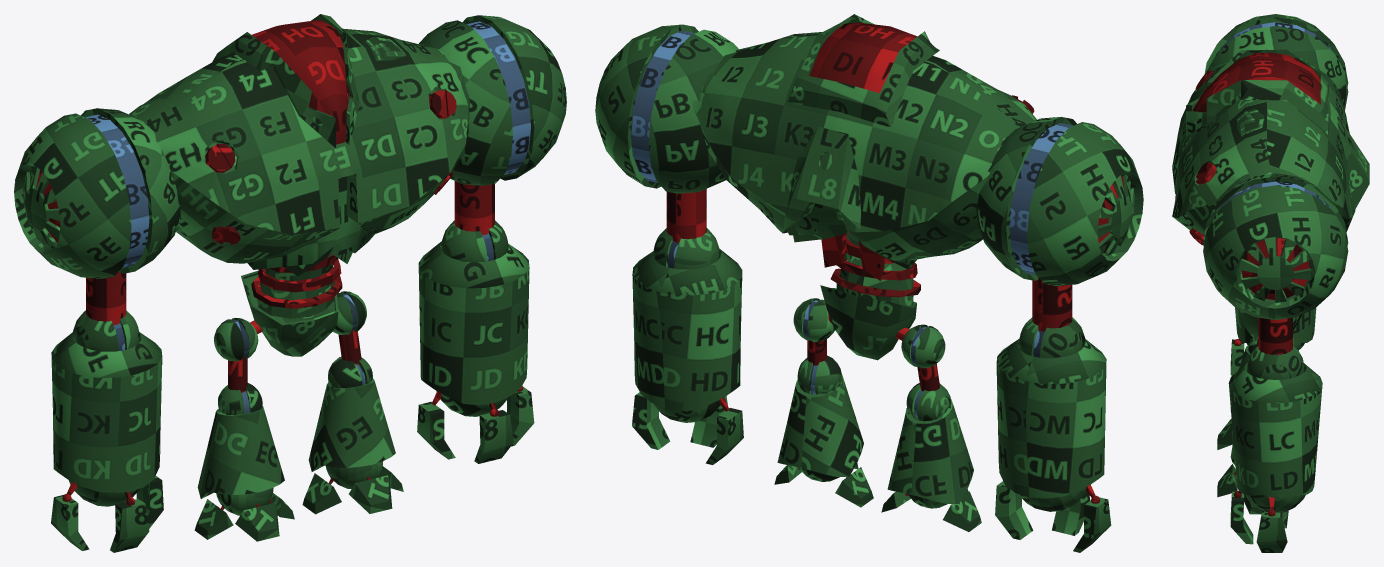
File: UVRobotTry3.fbx
The picture shows the model from 3 angles, left to right: view 1: azimuth 30°, elevation 25°; view 2: azimuth 150°, elevation 25°; view 3: azimuth 270°, elevation 25°; orthographic projection. The views are drawn at different scales.
Visible parts, largest first — view 1: TopTorso, L_Shoulder4, L_Shoulder6, L_Forearm6, L_Forearm4, L_Shin4, L_Shin6, InnerHead, OutSideHead, Stomach, Pelvis, MiddleTorso (+22 smaller); view 2: TopTorso, L_Shoulder4, L_Shoulder6, L_Forearm4, L_Forearm6, L_Shin4, L_Shin6, OutSideHead, InnerHead, OuterJetPack, Pelvis, Stomach (+20 smaller); view 3: L_Shoulder6, TopTorso, L_Forearm6, L_Shoulder4, OutSideHead, InnerHead, L_Elbow6, OuterJetPack, L_Bicep6, L_Claw14, L_Forearm4, L_Wrist6 (+6 smaller).
Boxes of the visible parts, x1,y1,x2,y2 form: TopTorso: [129, 28, 469, 263]; L_Shoulder4: [14, 108, 180, 278]; L_Shoulder6: [419, 15, 566, 185]; L_Forearm6: [418, 241, 529, 405]; L_Forearm4: [51, 332, 162, 493]; L_Shin4: [197, 406, 284, 498]; L_Shin6: [308, 378, 395, 471]; InnerHead: [252, 19, 349, 144]; OutSideHead: [212, 14, 360, 148]; Stomach: [251, 254, 342, 318]; Pelvis: [241, 271, 338, 356]; MiddleTorso: [247, 176, 375, 269]; TopTorso: [692, 32, 1036, 260]; L_Shoulder4: [976, 117, 1143, 285]; L_Shoulder6: [595, 24, 738, 193]; L_Forearm4: [996, 339, 1106, 498]; L_Forearm6: [632, 249, 742, 411]; L_Shin4: [887, 399, 973, 503]; L_Shin6: [777, 373, 863, 476]; OutSideHead: [787, 14, 939, 127]; InnerHead: [809, 22, 917, 92]; OuterJetPack: [787, 126, 860, 229]; Pelvis: [820, 285, 916, 360]; Stomach: [830, 231, 920, 307]; L_Shoulder6: [1203, 173, 1348, 319]; TopTorso: [1172, 49, 1355, 234]; L_Forearm6: [1228, 363, 1322, 495]; L_Shoulder4: [1204, 14, 1348, 109]; OutSideHead: [1186, 49, 1328, 136]; InnerHead: [1192, 52, 1320, 136]; L_Elbow6: [1247, 346, 1304, 379]; OuterJetPack: [1338, 117, 1369, 209]; L_Bicep6: [1258, 317, 1292, 354]; L_Claw14: [1256, 512, 1287, 552]; L_Forearm4: [1235, 307, 1316, 342]; L_Wrist6: [1245, 494, 1305, 512].
Bounding box in the file's own units: 4.95 × 4.4 × 1.92.
Materials: 3 (3 with a texture image).
